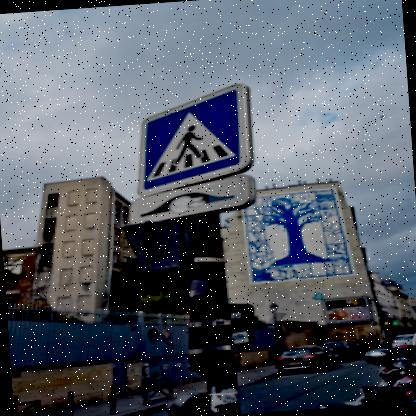crosswalk: (134, 77, 259, 194)
